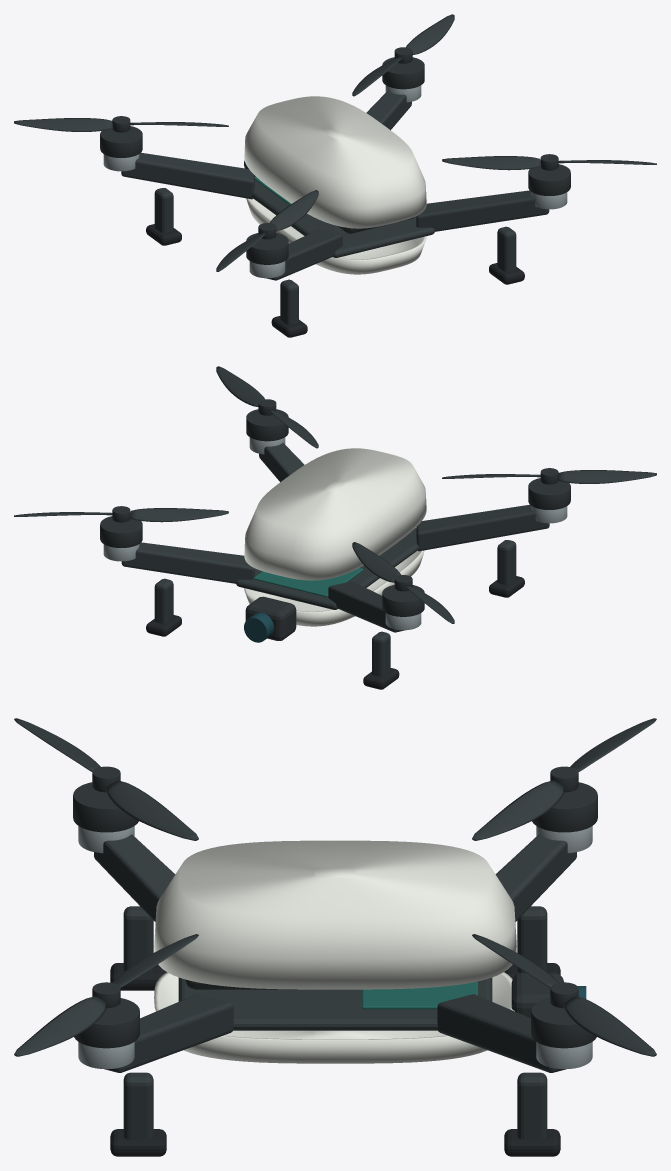
Rendered from drone-blockout.glb.
3 views of the same model, one above another, from view 1: azimuth 30°, elevation 25°; view 2: azimuth 150°, elevation 25°; view 3: azimuth 270°, elevation 25° (orthographic). The views are drawn at different scales.
Parts seen in each view (by area): view 1: shell_upper__Ceramic ivory · polymer, frame__Graphite composite, shell_lower__Ceramic ivory · polymer, prop_fl__Graphite composite, prop_rr__Graphite composite, frame__Elastomer, prop_fr__Graphite composite, prop_rl__Graphite composite, rotor_fl__Anodized graphite, rotor_rr__Anodized graphite, rotor_fr__Anodized graphite, rotor_rl__Anodized graphite (+1 smaller); view 2: shell_upper__Ceramic ivory · polymer, frame__Graphite composite, shell_lower__Ceramic ivory · polymer, prop_rl__Graphite composite, prop_fr__Graphite composite, frame__Elastomer, prop_rr__Graphite composite, prop_fl__Graphite composite, gimbal_pitch__Anodized graphite, esc__Teal solder mask, rotor_fr__Anodized graphite, rotor_rl__Anodized graphite (+4 smaller); view 3: shell_upper__Ceramic ivory · polymer, frame__Graphite composite, shell_lower__Ceramic ivory · polymer, frame__Elastomer, prop_rl__Graphite composite, prop_fl__Graphite composite, prop_fr__Graphite composite, prop_rr__Graphite composite, esc__Teal solder mask, rotor_fl__Anodized graphite, rotor_rl__Anodized graphite, rotor_fr__Anodized graphite (+6 smaller).
Boxes of the visible parts, x1,y1,x2,y2 form: shell_upper__Ceramic ivory · polymer: (244,96,426,228); frame__Graphite composite: (121,91,549,324); shell_lower__Ceramic ivory · polymer: (246,198,426,274); prop_fl__Graphite composite: (14,118,228,131); prop_rr__Graphite composite: (442,156,656,170); frame__Elastomer: (146,224,524,337); prop_fr__Graphite composite: (352,14,454,96); prop_rl__Graphite composite: (216,190,318,271); rotor_fl__Anodized graphite: (100,126,142,157); rotor_rr__Anodized graphite: (528,164,570,195); rotor_fr__Anodized graphite: (382,57,424,89); rotor_rl__Anodized graphite: (246,233,288,264); shell_upper__Ceramic ivory · polymer: (244,448,426,580); frame__Graphite composite: (121,443,549,676); shell_lower__Ceramic ivory · polymer: (244,550,424,626); prop_rl__Graphite composite: (442,470,656,483); prop_fr__Graphite composite: (14,508,228,522); frame__Elastomer: (146,576,524,689); prop_rr__Graphite composite: (216,366,318,448); prop_fl__Graphite composite: (352,542,454,623); gimbal_pitch__Anodized graphite: (245,596,296,640); esc__Teal solder mask: (253,568,363,596); rotor_fr__Anodized graphite: (100,516,142,547); rotor_rl__Anodized graphite: (528,478,570,509); shell_upper__Ceramic ivory · polymer: (154,840,516,989); frame__Graphite composite: (94,834,576,1139); shell_lower__Ceramic ivory · polymer: (154,972,514,1063); frame__Elastomer: (110,963,560,1156); prop_rl__Graphite composite: (14,718,198,840); prop_fl__Graphite composite: (472,718,656,840); prop_fr__Graphite composite: (472,934,656,1056); prop_rr__Graphite composite: (14,934,198,1056); esc__Teal solder mask: (362,981,477,1009); rotor_fl__Anodized graphite: (532,782,597,832); rotor_rl__Anodized graphite: (73,782,138,832); rotor_fr__Anodized graphite: (531,998,596,1048).
Bounding box in the file's own units: 0.4528 × 0.122 × 0.3651.
